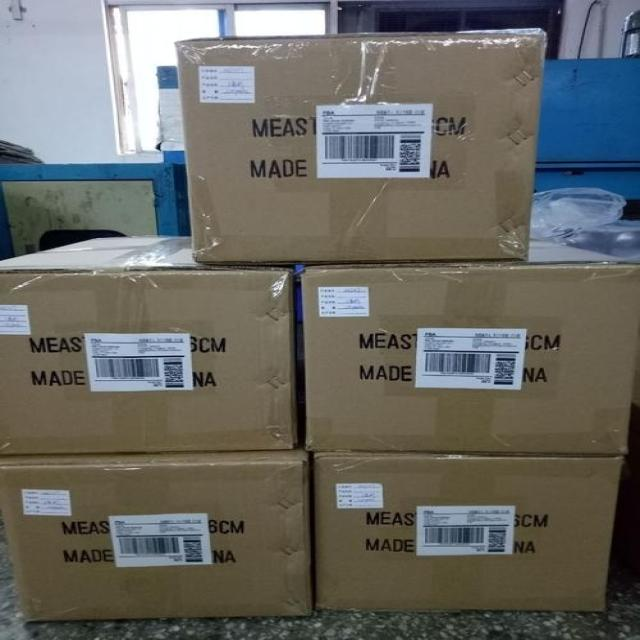box: (176, 31, 545, 264), (295, 237, 639, 456), (2, 234, 300, 456), (0, 450, 315, 620), (312, 455, 621, 611)
